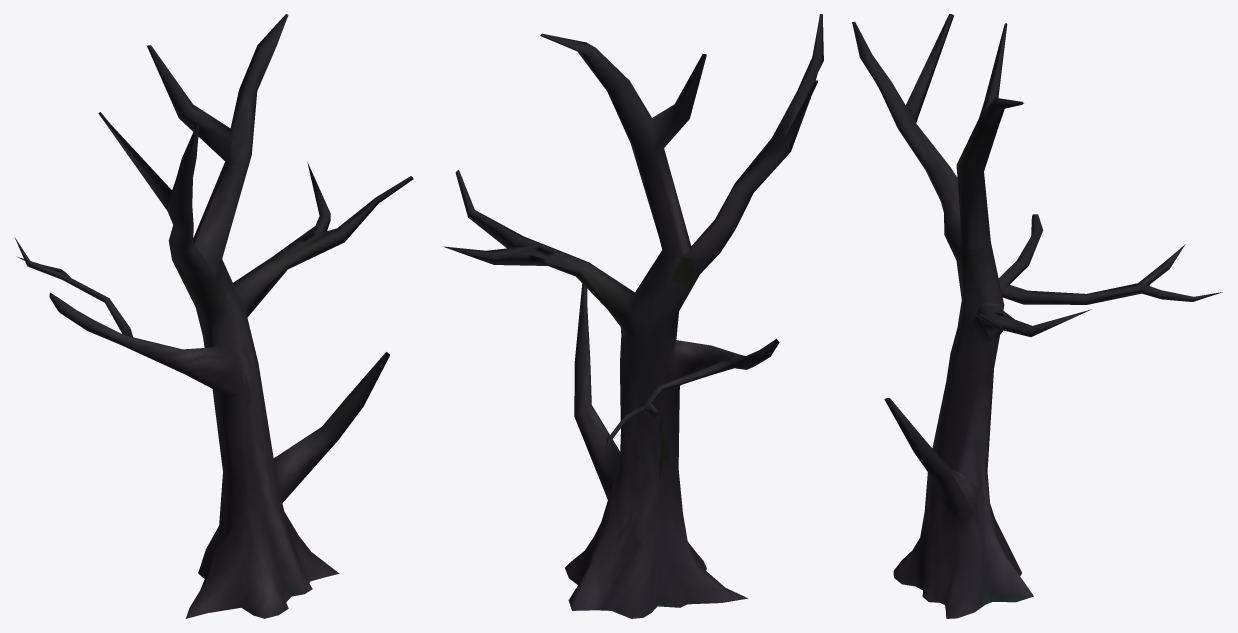
Rendered from Area11_17.fbx.
The picture shows the model from 3 angles, left to right: view 1: azimuth 30°, elevation 25°; view 2: azimuth 150°, elevation 25°; view 3: azimuth 270°, elevation 25°; orthographic projection. The views are drawn at different scales.
Visible parts, largest first — view 1: Area11_17; view 2: Area11_17; view 3: Area11_17.
Boxes of the visible parts, x1,y1,x2,y2 form: Area11_17: (15, 14, 413, 618); Area11_17: (442, 14, 823, 618); Area11_17: (852, 14, 1222, 618).
Bounding box in the file's own units: 822 × 1278 × 827.
